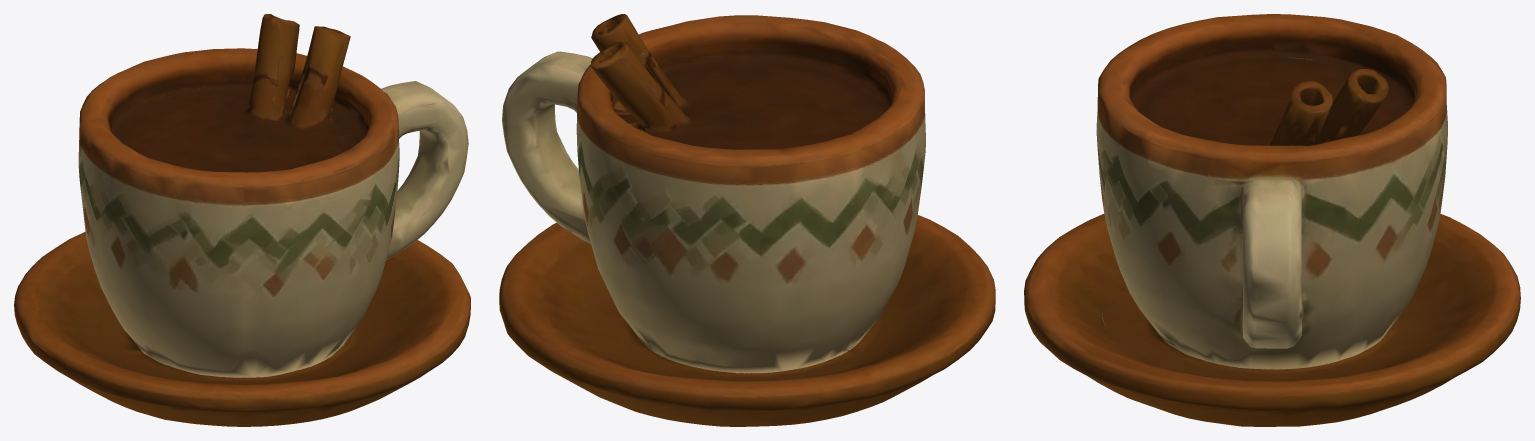
Rendered from chocolate.glb.
3 views of the same model, side by side, from view 1: azimuth 30°, elevation 25°; view 2: azimuth 150°, elevation 25°; view 3: azimuth 270°, elevation 25° (orthographic). The views are drawn at different scales.
Parts seen in each view (by area): view 1: Mesh_0; view 2: Mesh_0; view 3: Mesh_0.
Boxes of the visible parts, left/top/right/bottom form: Mesh_0: left=14, top=14, right=470, bottom=426; Mesh_0: left=499, top=14, right=995, bottom=426; Mesh_0: left=1024, top=14, right=1520, bottom=426.
Size of the model in its own units: 0.1743 by 0.12 by 0.1664.
1 material, 1 textured.
